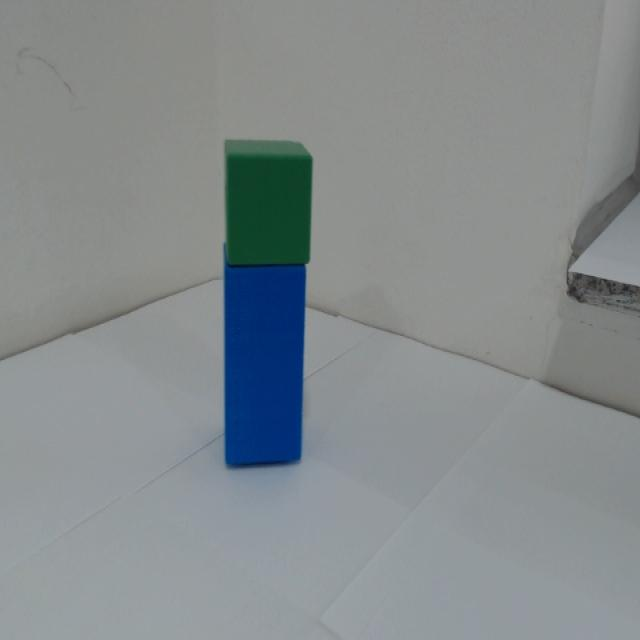cube: (217, 139, 314, 269)
